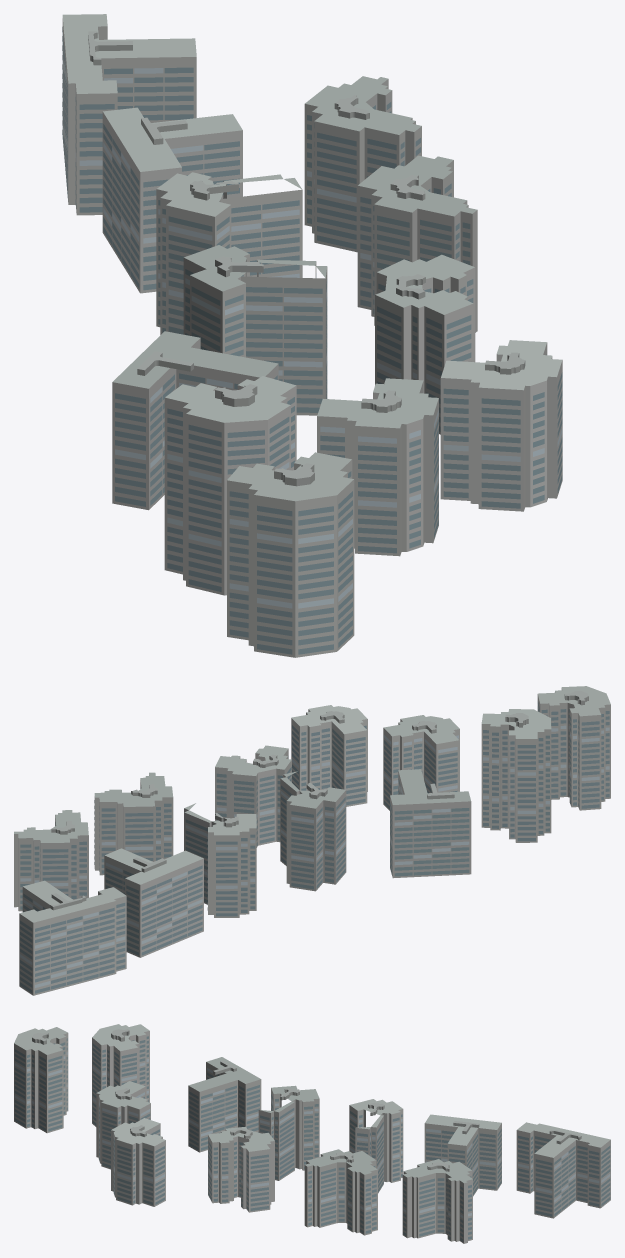
File: apt-a15679108.glb
The picture shows the model from 3 angles, top to bottom: view 1: azimuth 30°, elevation 25°; view 2: azimuth 150°, elevation 25°; view 3: azimuth 270°, elevation 25°; orthographic projection. The views are drawn at different scales.
Parts seen in each view (by area): view 1: apt-a15679108; view 2: apt-a15679108; view 3: apt-a15679108.
Boxes of the visible parts, x1,y1,x2,y2 form: apt-a15679108: (62,14,562,657); apt-a15679108: (14,686,610,995); apt-a15679108: (14,1024,610,1243).
Size of the model in its own units: 178 by 54 by 323.
